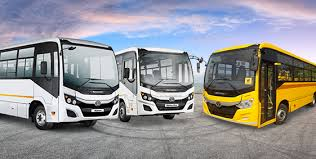bus: (1, 37, 122, 129), (201, 42, 314, 129), (115, 47, 201, 122)
